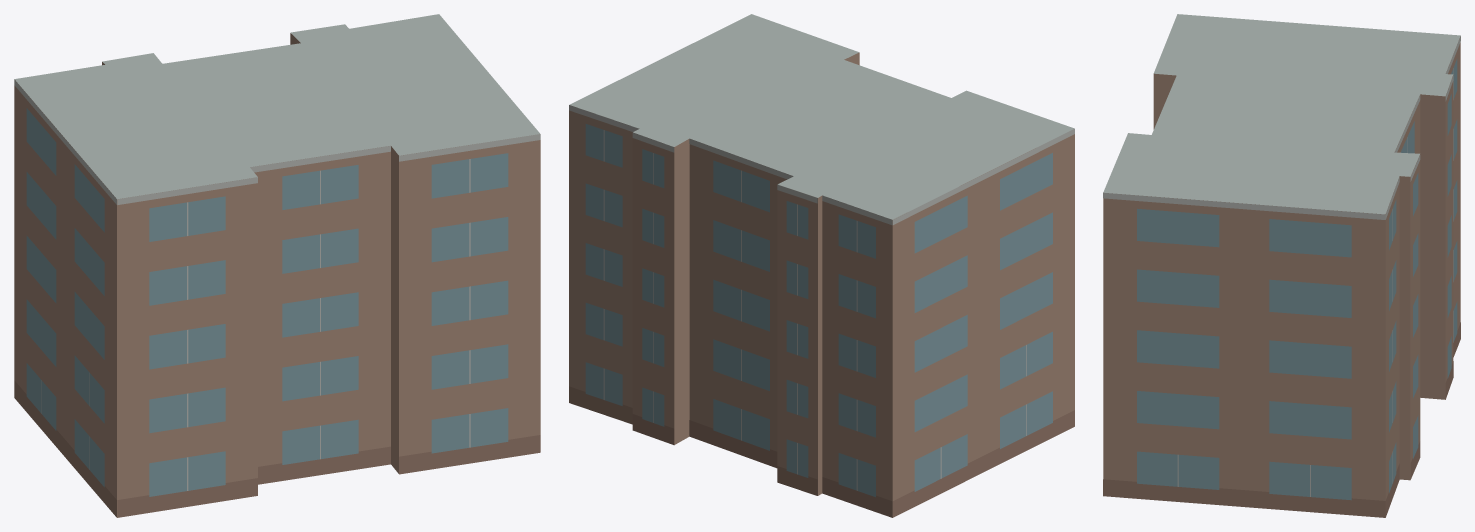
File: survey-upis-32975473.glb
The picture shows the model from 3 angles, left to right: view 1: azimuth 30°, elevation 25°; view 2: azimuth 150°, elevation 25°; view 3: azimuth 270°, elevation 25°; orthographic projection. The views are drawn at different scales.
Visible parts, largest first — view 1: survey-upis-32975473.tmp; view 2: survey-upis-32975473.tmp; view 3: survey-upis-32975473.tmp.
Boxes of the visible parts, x1,y1,x2,y2 form: survey-upis-32975473.tmp: (14,14,540,517); survey-upis-32975473.tmp: (569,14,1074,517); survey-upis-32975473.tmp: (1103,14,1460,517).
Bounding box in the file's own units: 18.43 × 13 × 13.9.
